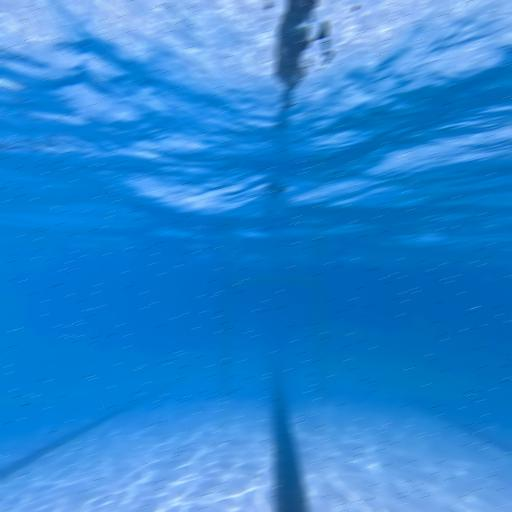gate: (222, 279, 328, 406)
